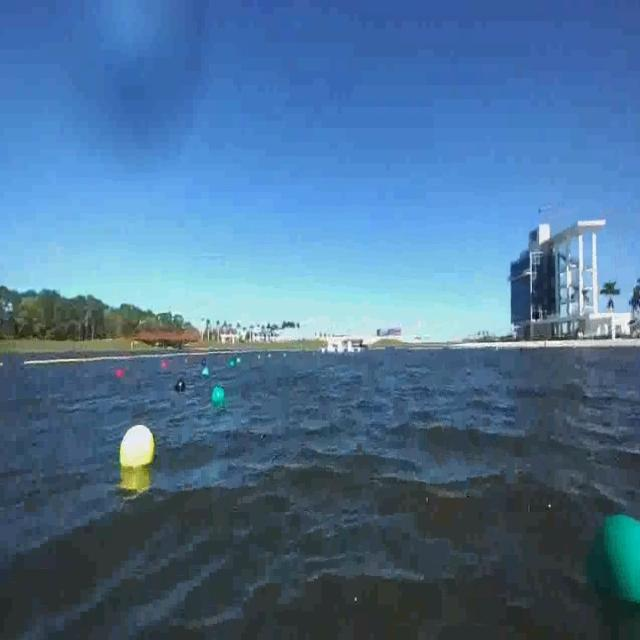black-buoy: (174, 380, 186, 393)
green-buoy: (588, 512, 640, 611), (212, 383, 227, 406)
yellow-buoy: (122, 425, 156, 470)
